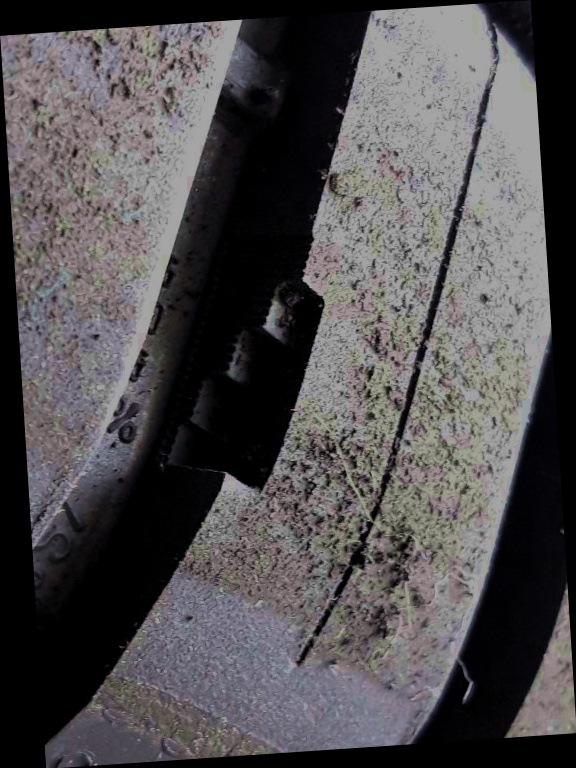temoin:95: (131, 214, 348, 516)
